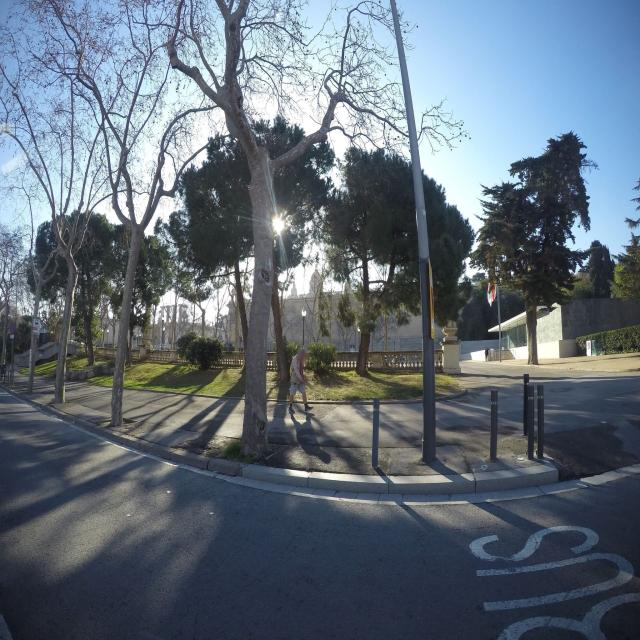forb_stopping: (10, 321, 16, 335)
